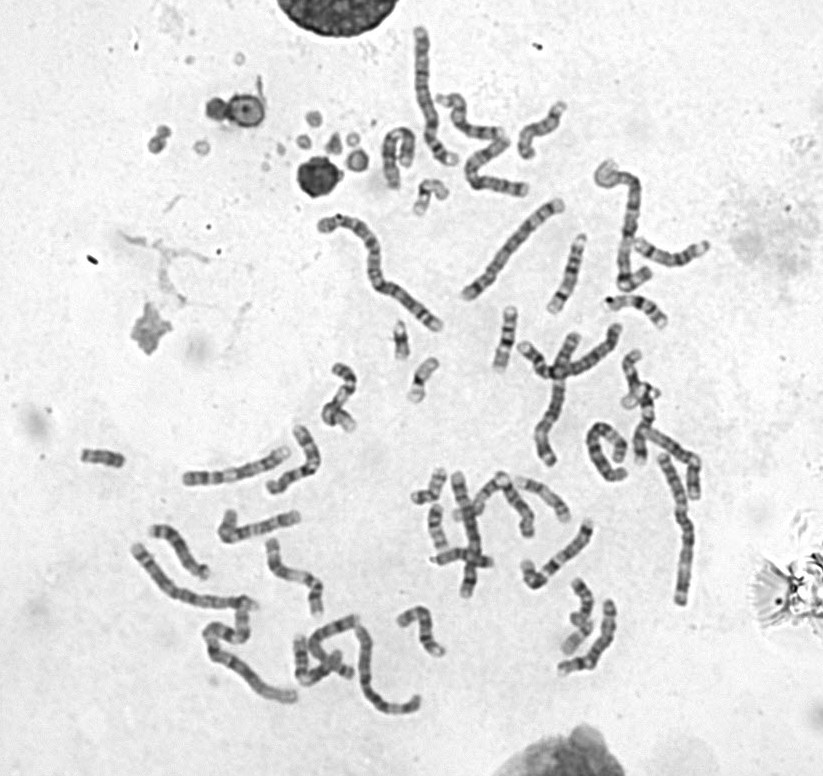chromosomes: (308, 211, 452, 337), (202, 593, 306, 710), (455, 195, 567, 303), (125, 539, 262, 614), (406, 27, 466, 169), (593, 158, 654, 295), (528, 331, 585, 468), (652, 446, 696, 613), (351, 625, 424, 718), (513, 320, 624, 381), (517, 514, 599, 591), (549, 598, 617, 681), (262, 535, 327, 621), (645, 427, 711, 505), (178, 446, 294, 489), (261, 423, 324, 499), (463, 139, 536, 204), (447, 465, 480, 601), (143, 522, 215, 584), (539, 230, 589, 318), (306, 608, 365, 681), (435, 89, 509, 143), (512, 97, 571, 163), (211, 505, 305, 546), (319, 360, 365, 439), (284, 632, 345, 690), (585, 418, 629, 496), (389, 603, 446, 661), (513, 475, 576, 527), (598, 293, 673, 334), (494, 472, 536, 543), (378, 121, 420, 191), (631, 234, 710, 269), (633, 380, 662, 467), (450, 479, 504, 524), (488, 302, 521, 375), (421, 548, 500, 574), (407, 464, 450, 511), (403, 356, 443, 406), (408, 177, 453, 221), (564, 575, 597, 629), (617, 346, 643, 413), (426, 494, 452, 556), (559, 618, 597, 658), (78, 448, 129, 472), (390, 318, 414, 363)
